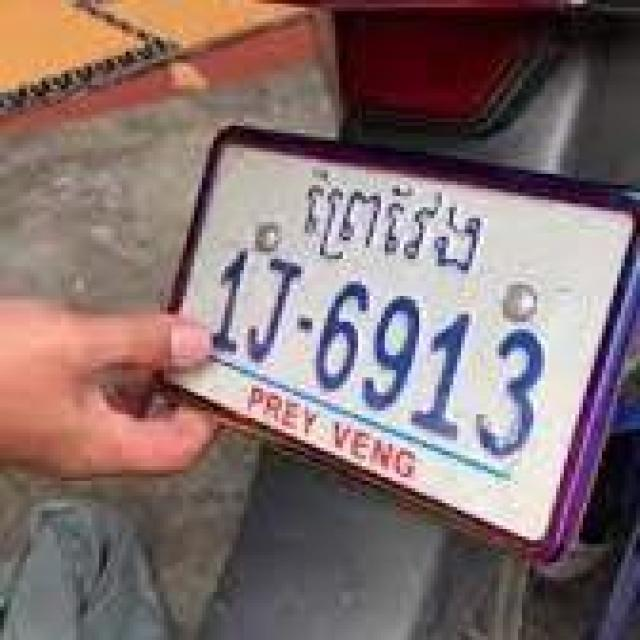Prey_Veng: (305, 163, 488, 274)
